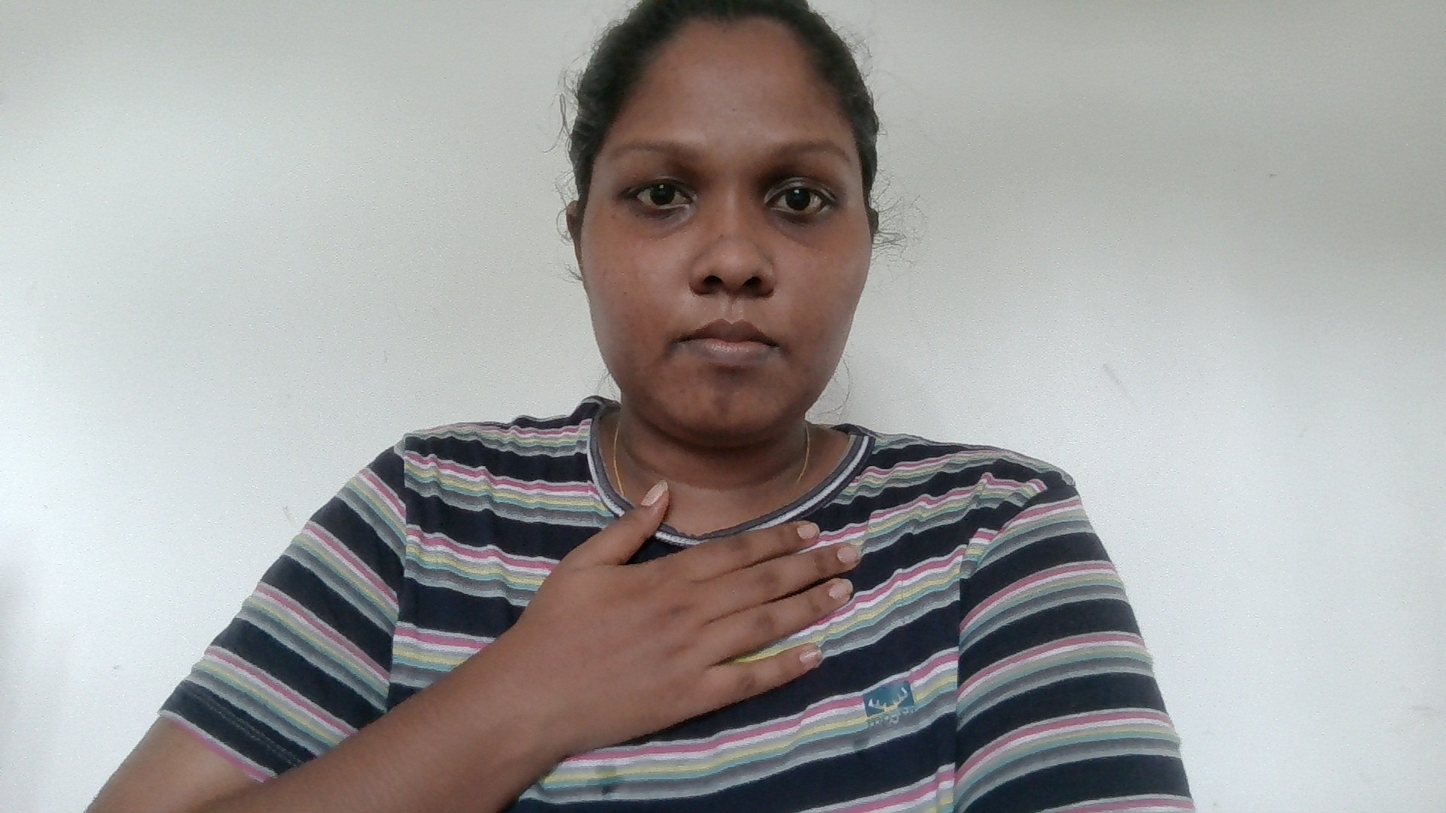Please: (550, 477, 914, 788)
